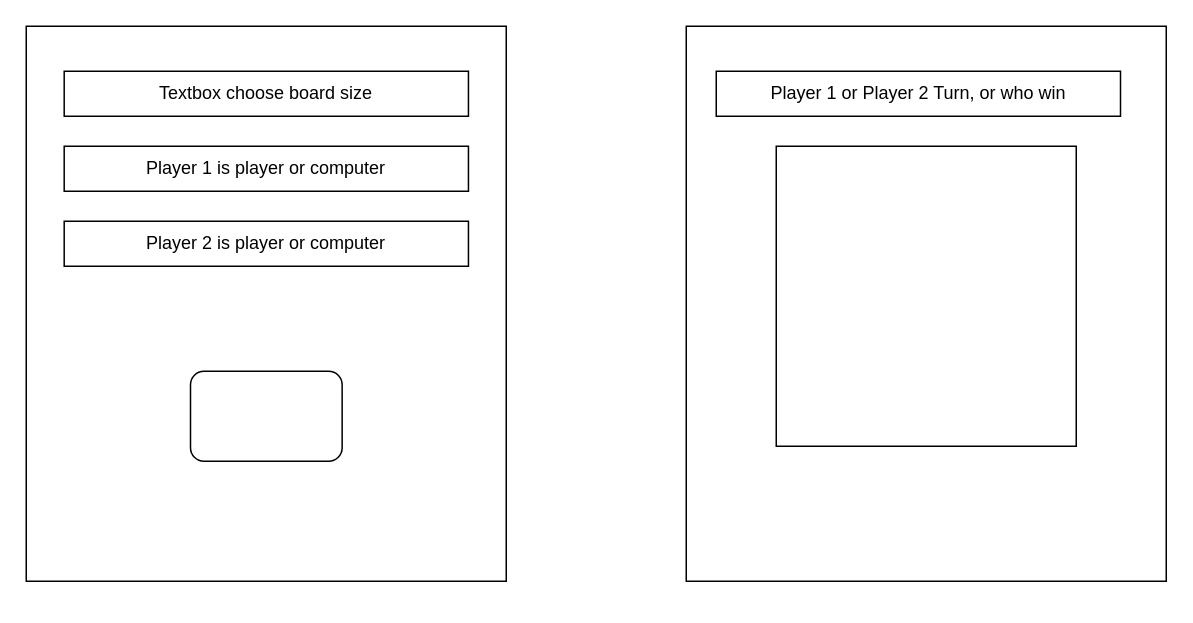
This 1193x623 diagram has some shape labels left out. The centre of each missing label's shape, as x and y in pixels:
"Board n x n" belongs at point (925, 295).
"START" belongs at point (265, 415).
